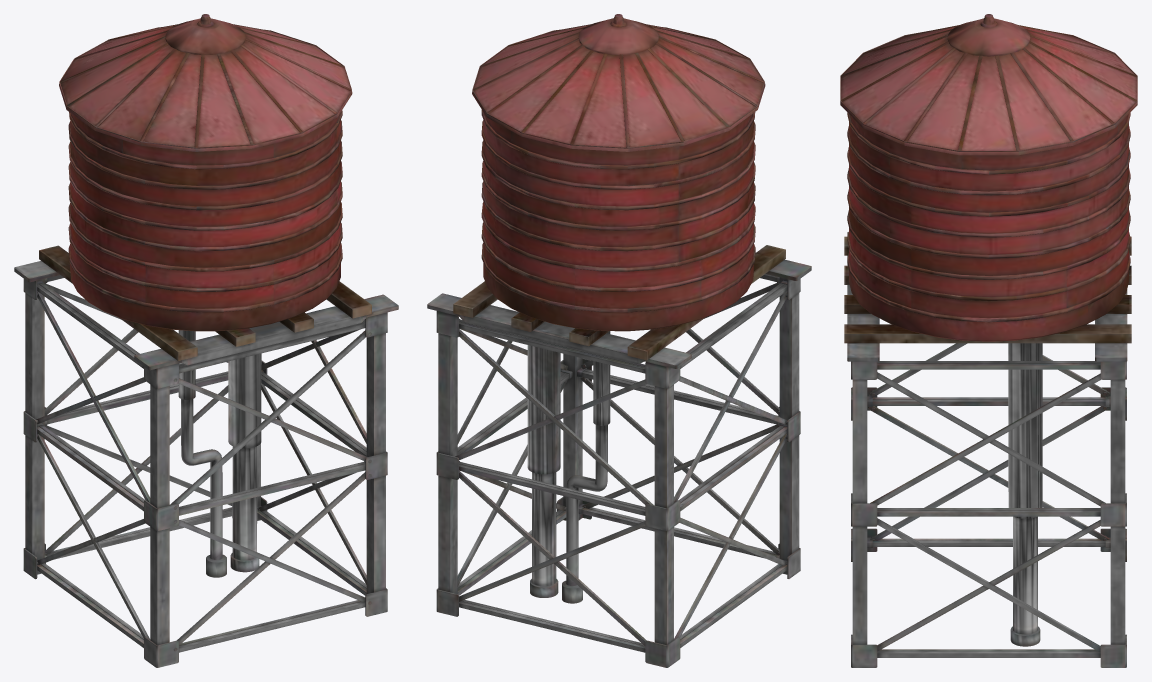
File: water_tank_6.glb
3 views of the same model, side by side, from view 1: azimuth 30°, elevation 25°; view 2: azimuth 150°, elevation 25°; view 3: azimuth 270°, elevation 25° (orthographic). The views are drawn at different scales.
Parts seen in each view (by area): view 1: Object_7; view 2: Object_7; view 3: Object_7.
Boxes of the visible parts, x1,y1,x2,y2 form: Object_7: [14, 14, 398, 667]; Object_7: [427, 14, 811, 667]; Object_7: [840, 14, 1137, 667].
Bounding box in the file's own units: 2.1 × 4.64 × 2.1.
Materials: 1 (1 with a texture image).
